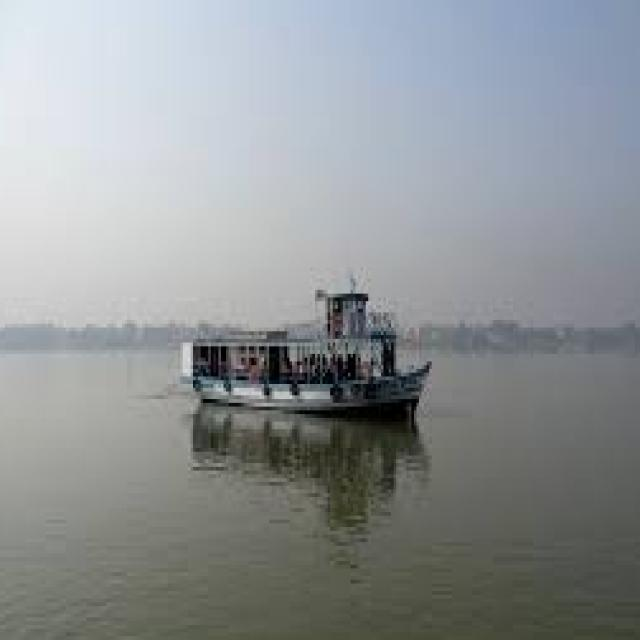fishing boat: (177, 272, 433, 412)
